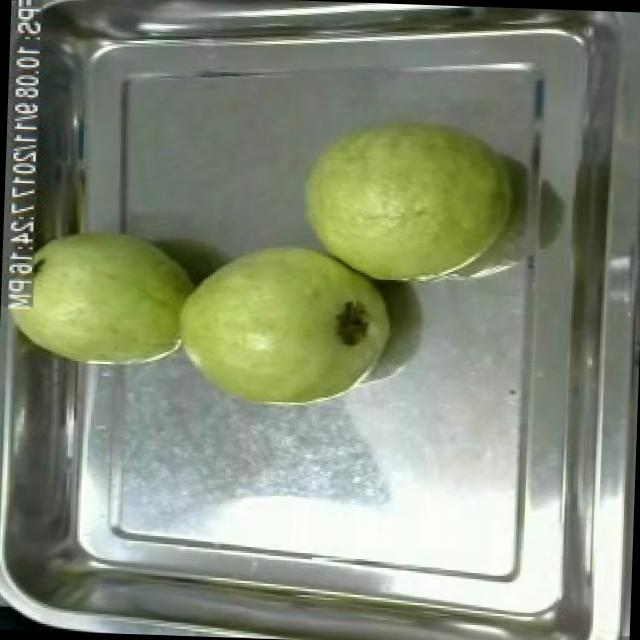Fruit: (288, 105, 520, 295), (170, 229, 402, 417), (8, 220, 194, 376)
